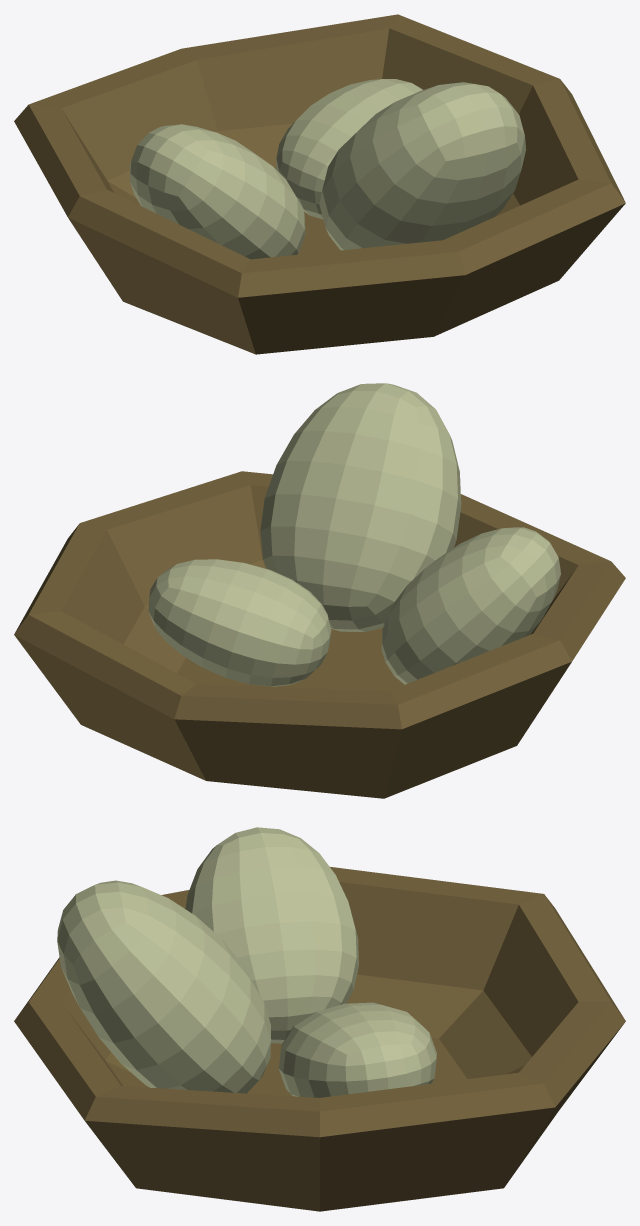
Rendered from ObjectiveNest.fbx.
3 renders of one model, top to bottom at view 1: azimuth 30°, elevation 25°; view 2: azimuth 150°, elevation 25°; view 3: azimuth 270°, elevation 25°, orthographic. The views are drawn at different scales.
Visible parts, largest first — view 1: Nest_Base, Nest_Eggs; view 2: Nest_Base, Nest_Eggs; view 3: Nest_Base, Nest_Eggs.
Part boxes in pixels (x1,y1,x2,y2): Nest_Base: (14,14,625,354); Nest_Eggs: (129,79,526,259); Nest_Base: (14,471,625,798); Nest_Eggs: (148,383,560,686); Nest_Base: (14,867,625,1211); Nest_Eggs: (57,827,436,1097).
Size of the model in its own units: 511 by 220 by 511.
